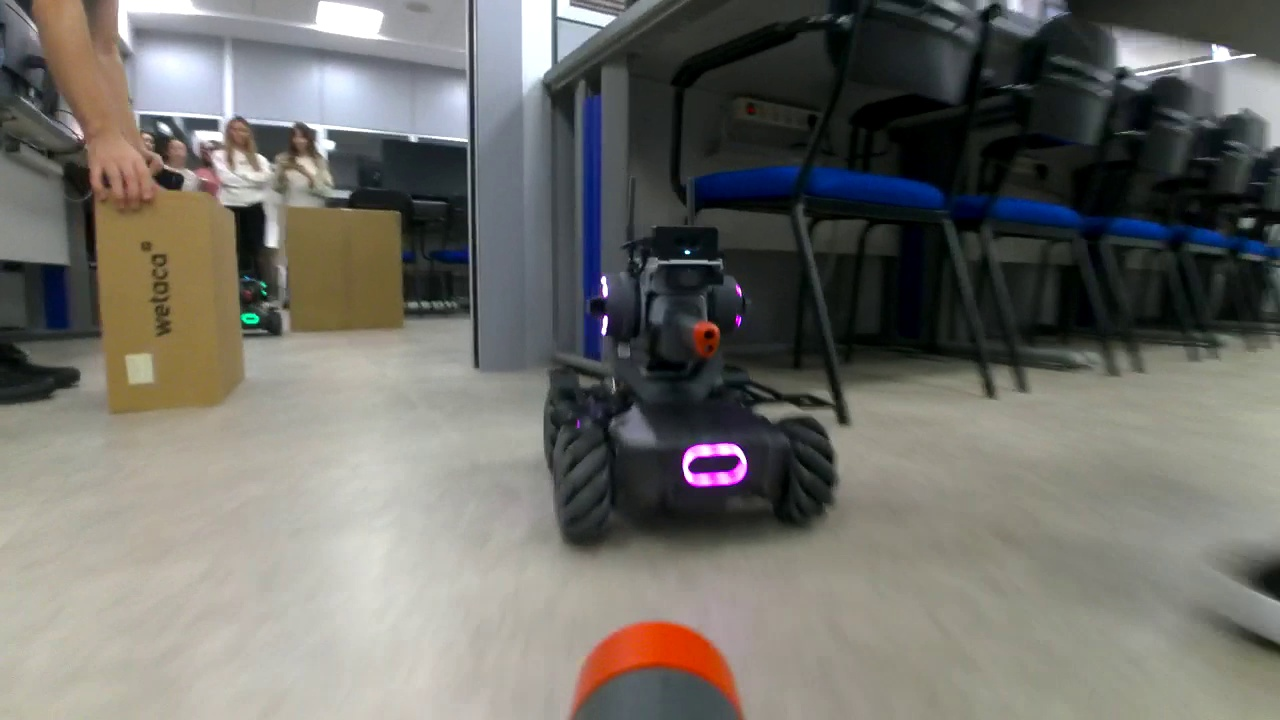robot: (541, 226, 838, 548)
